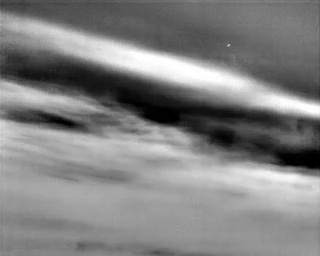BIRD: (226, 41, 232, 49)
